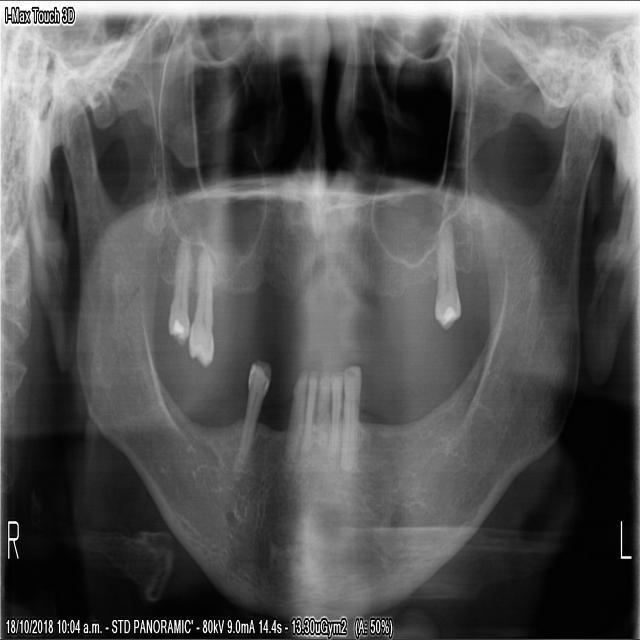LCD: (340, 360, 361, 465)
LID: (330, 365, 343, 447), (316, 369, 329, 447)
LMU: (431, 213, 462, 333)
RID: (281, 368, 306, 464), (298, 367, 318, 460)
RMU: (185, 244, 214, 369), (166, 235, 191, 348)
RPMD: (234, 354, 272, 469)
